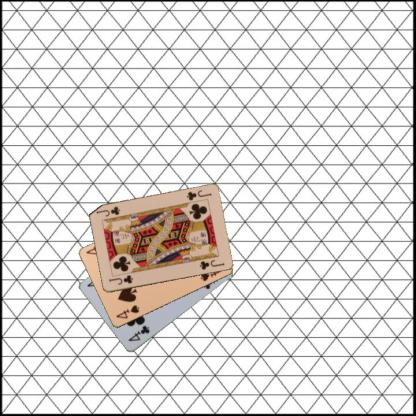4c: (125, 323, 151, 344)
4s: (114, 303, 140, 320)
Jc: (184, 188, 212, 202), (106, 273, 134, 286)
